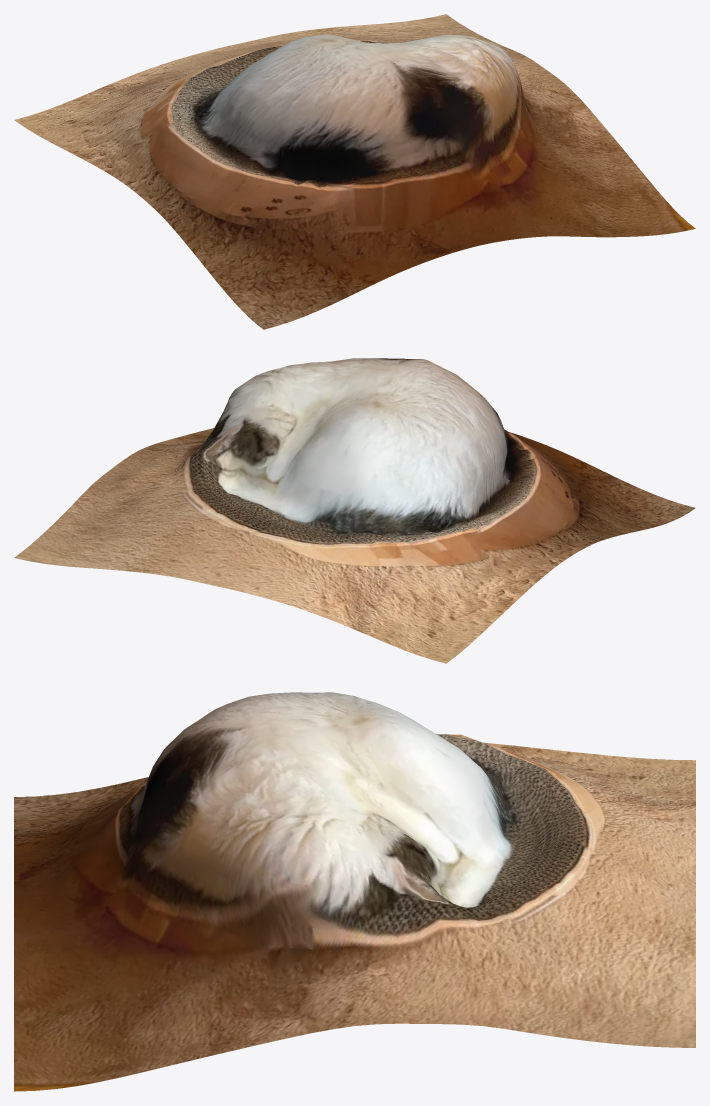
The model's file is cat_basket.glb.
The picture shows the model from 3 angles, top to bottom: view 1: azimuth 30°, elevation 25°; view 2: azimuth 150°, elevation 25°; view 3: azimuth 270°, elevation 25°; orthographic projection. The views are drawn at different scales.
Parts seen in each view (by area): view 1: Object_2; view 2: Object_2; view 3: Object_2.
Boxes of the visible parts, x1,y1,x2,y2 form: Object_2: [14, 14, 695, 329]; Object_2: [14, 358, 695, 663]; Object_2: [14, 692, 695, 1091].
Size of the model in its own units: 0.5406 by 0.1925 by 0.5406.
1 material, 1 textured.
